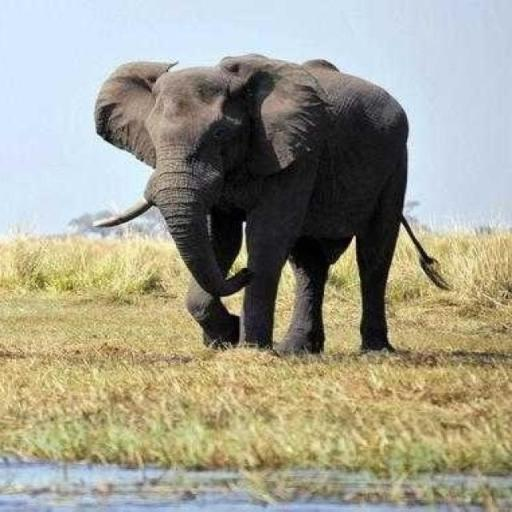Elephant: (90, 52, 452, 357)
